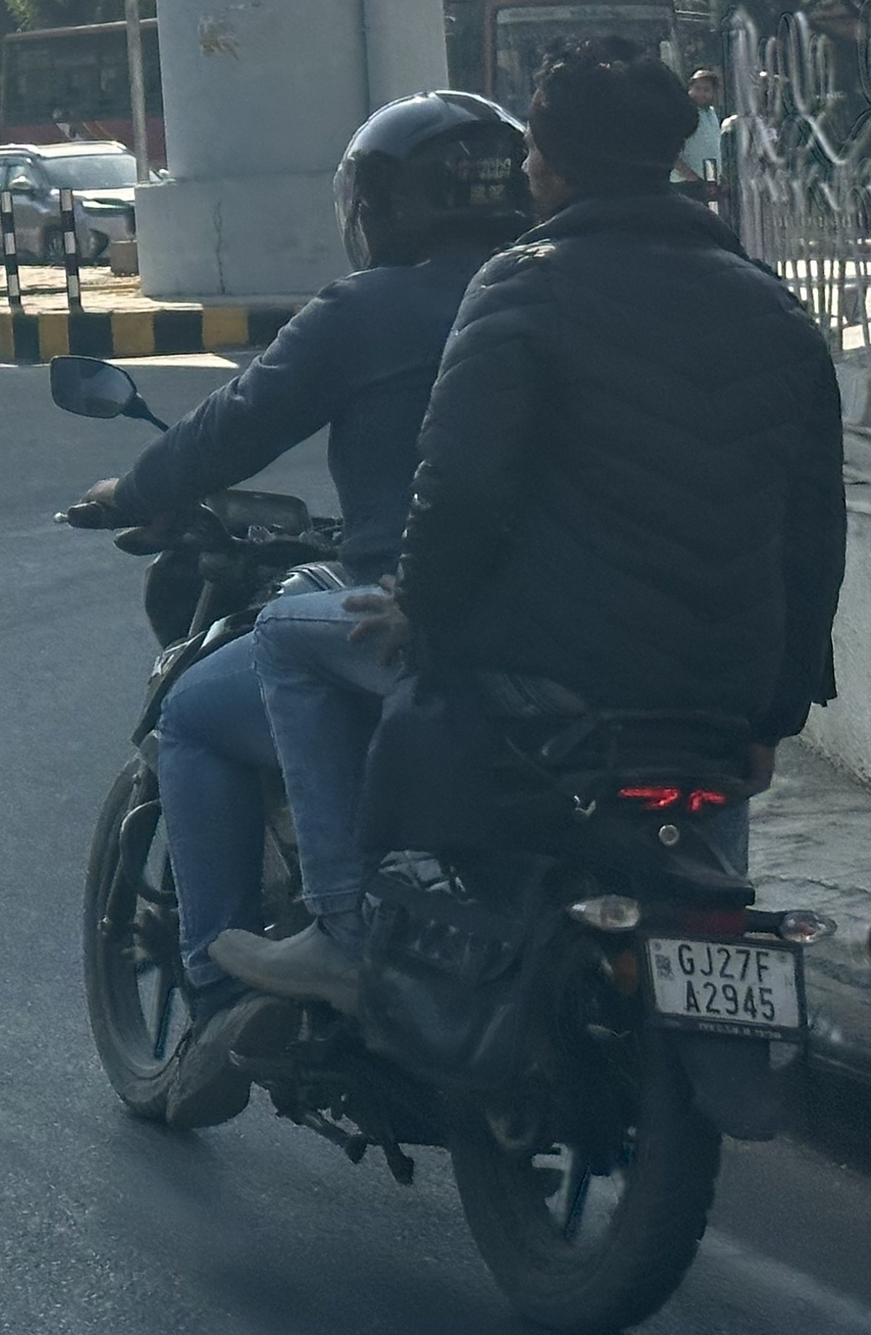BikeWithRider: (32, 23, 865, 1334)
Helmet: (314, 76, 551, 284)
NoHelmet: (502, 27, 718, 232)
